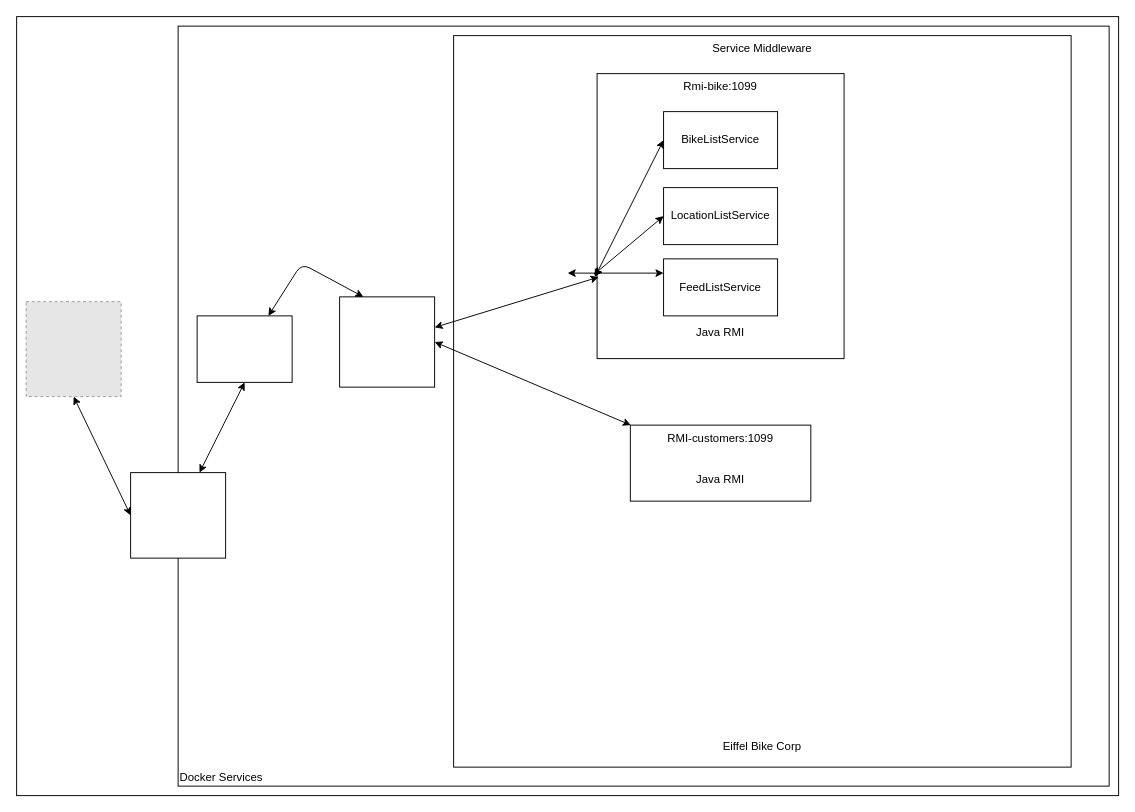
The diagram is 1135 pixels wide and 812 high, and some of its shapes have lost their labels. Grey dashed boxes stand in for pictures. Here are the shapes that lost their labels. From the top down, the box of each, then its label:
(196, 315, 292, 382): Angular:4200
(339, 296, 435, 387): Rest-api:8080 SpringBoot
(130, 472, 226, 558): HTTP Port: 8080
